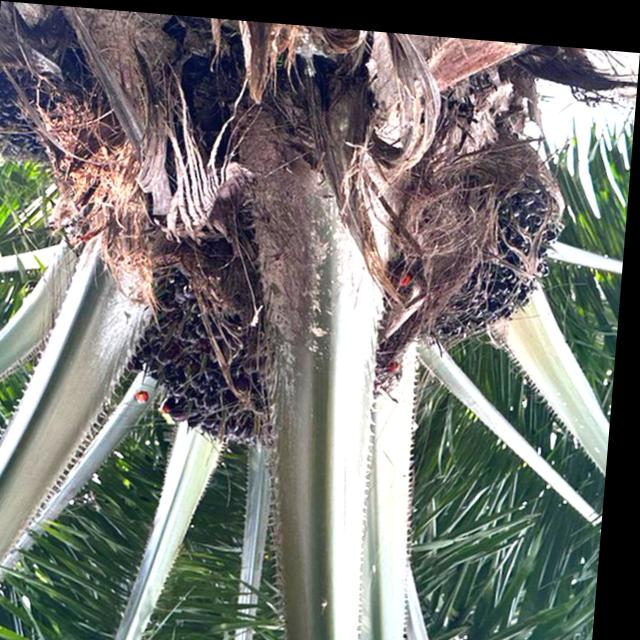ripe: (125, 235, 294, 456)
